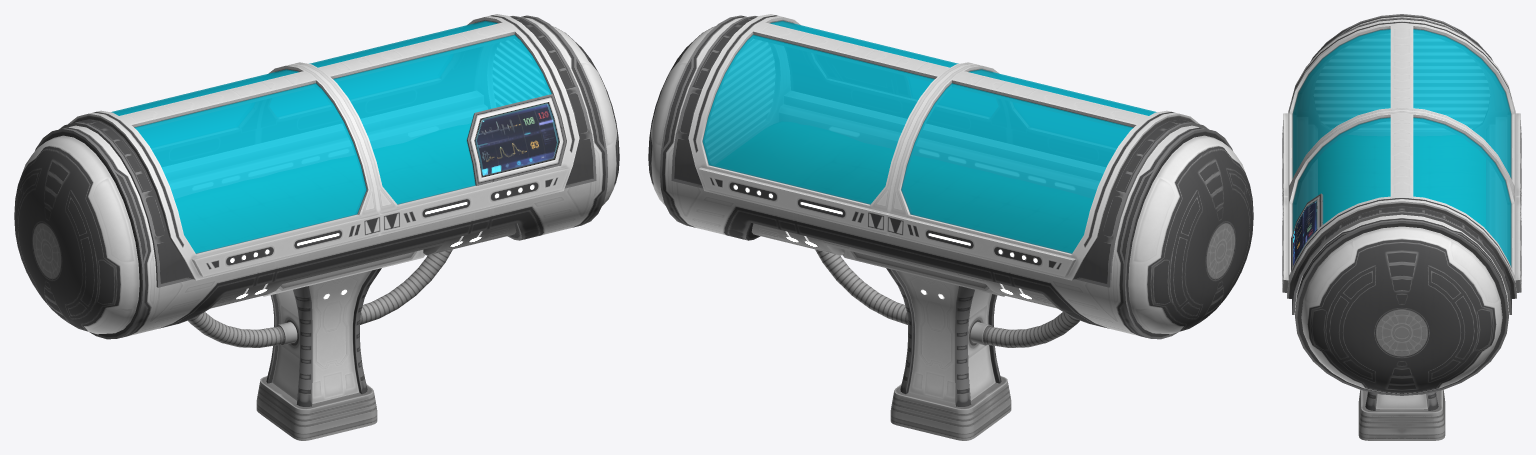
Rendered from MedCapsule01.FBX.
3 views of the same model, side by side, from view 1: azimuth 30°, elevation 25°; view 2: azimuth 150°, elevation 25°; view 3: azimuth 270°, elevation 25° (orthographic). The views are drawn at different scales.
Visible parts, largest first — view 1: MedCapsule01, Cover1, Cover2; view 2: MedCapsule01, Cover1, Cover2; view 3: MedCapsule01, Cover2, Cover1.
Part boxes in pixels (box(x1,y1,x2,y2)): MedCapsule01: box(14, 15, 619, 440); Cover1: box(59, 64, 382, 287); Cover2: box(294, 14, 596, 235); MedCapsule01: box(648, 15, 1253, 440); Cover1: box(885, 64, 1208, 287); Cover2: box(671, 14, 973, 235); MedCapsule01: box(1295, 14, 1508, 440); Cover2: box(1282, 110, 1521, 314); Cover1: box(1282, 17, 1521, 211).
Size of what is drawn, in the model's own units: 3.08 by 1.87 by 1.3.
